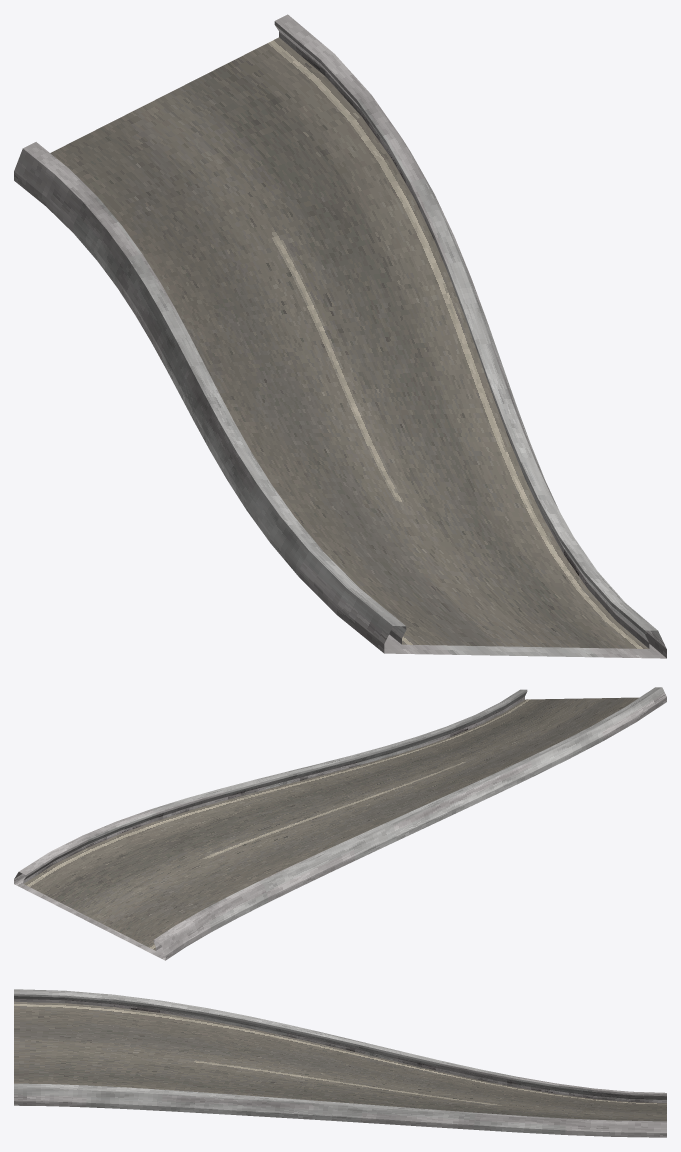
The model's file is chicane-right1x4.glb.
The picture shows the model from 3 angles, top to bottom: view 1: azimuth 30°, elevation 25°; view 2: azimuth 150°, elevation 25°; view 3: azimuth 270°, elevation 25°; orthographic projection. The views are drawn at different scales.
Parts seen in each view (by area): view 1: road-Chicane-HalfBankedRight-HalfBankedLeft-Even-Right1-Size; view 2: road-Chicane-HalfBankedRight-HalfBankedLeft-Even-Right1-Size; view 3: road-Chicane-HalfBankedRight-HalfBankedLeft-Even-Right1-Size.
Part boxes in pixels (bbox=[...]): road-Chicane-HalfBankedRight-HalfBankedLeft-Even-Right1-Size: bbox=[14, 14, 666, 658]; road-Chicane-HalfBankedRight-HalfBankedLeft-Even-Right1-Size: bbox=[14, 687, 666, 960]; road-Chicane-HalfBankedRight-HalfBankedLeft-Even-Right1-Size: bbox=[14, 989, 666, 1137].
Bounding box in the file's own units: 2 × 0.3359 × 4.
2 materials, 2 textured.
